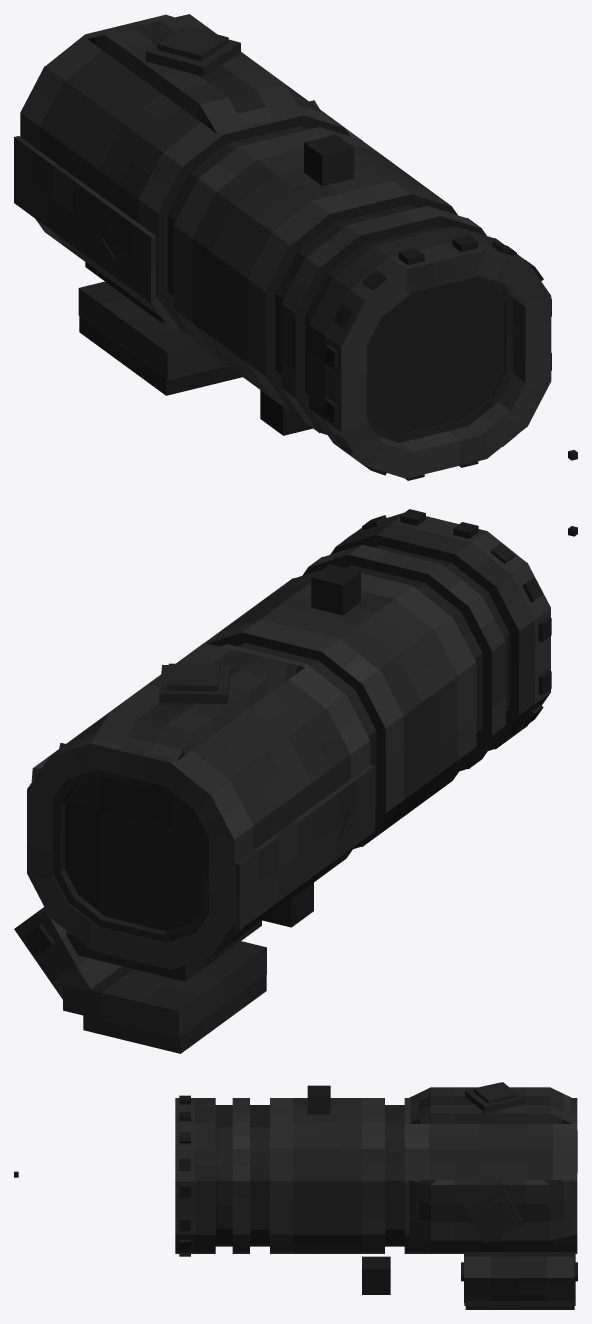
The model's file is j_sigjuliet.geo.fbx.
3 views of the same model, one above another, from view 1: azimuth 30°, elevation 25°; view 2: azimuth 150°, elevation 25°; view 3: azimuth 270°, elevation 25° (orthographic). The views are drawn at different scales.
Parts seen in each view (by area): view 1: specter7, specter6, specter4, scopepip, specter8, specter11, specter3, specter5, _cb_scope, _ca_scope; view 2: specter7, specter6, specter11, bone11, specter4, specter8, specter3, specter5, _cb_scope, _ca_scope; view 3: specter6, specter7, specter9, specter3, specter11, specter4, specter8, specter5, _ca_scope, _cb_scope.
Part boxes in pixels (<box>): specter7: <box>14,14,350,334</box>; specter6: <box>174,127,457,413</box>; specter4: <box>309,226,551,480</box>; scopepip: <box>367,278,504,434</box>; specter8: <box>87,14,301,133</box>; specter11: <box>78,262,242,395</box>; specter3: <box>167,126,512,442</box>; specter5: <box>281,206,486,434</box>; _cb_scope: <box>304,134,354,186</box>; _ca_scope: <box>260,390,312,435</box>; specter7: <box>27,644,375,969</box>; specter6: <box>204,569,476,848</box>; specter11: <box>14,907,266,1053</box>; bone11: <box>65,777,202,931</box>; specter4: <box>330,509,551,750</box>; specter8: <box>93,643,304,761</box>; specter3: <box>53,545,509,942</box>; specter5: <box>302,544,505,770</box>; _cb_scope: <box>311,564,360,615</box>; _ca_scope: <box>262,882,313,927</box>; specter6: <box>270,1098,384,1253</box>; specter7: <box>404,1098,577,1253</box>; specter9: <box>408,1180,572,1242</box>; specter3: <box>215,1105,404,1246</box>; specter11: <box>461,1252,577,1309</box>; specter4: <box>175,1095,215,1256</box>; specter8: <box>409,1082,571,1123</box>; specter5: <box>232,1098,250,1253</box>; _ca_scope: <box>362,1256,390,1294</box>; _cb_scope: <box>307,1085,330,1114</box>.
Bounding box in the file's own units: 39.07 × 48.99 × 123.
1 material, 1 textured.
